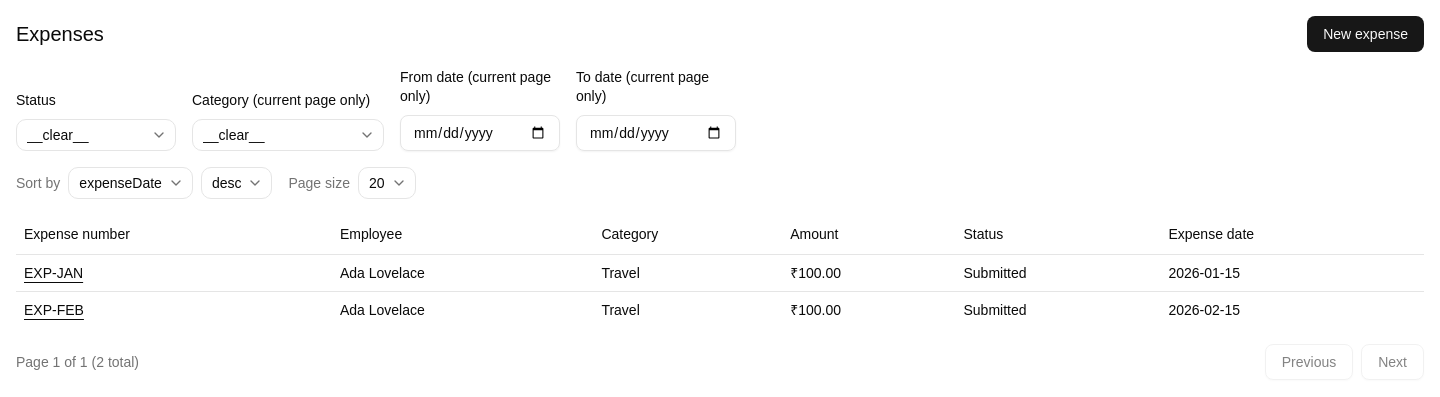
Test: ExpenseListPage › narrows to the current page when a date range filter is applied
The image size is (1440, 397).
Expected: the link "EXP-JAN" is shown, [24,265,83,281]
Type "2026-01-01" into the date field labelled "From date (current page only)" at (480, 132), box [400,114,560,150]
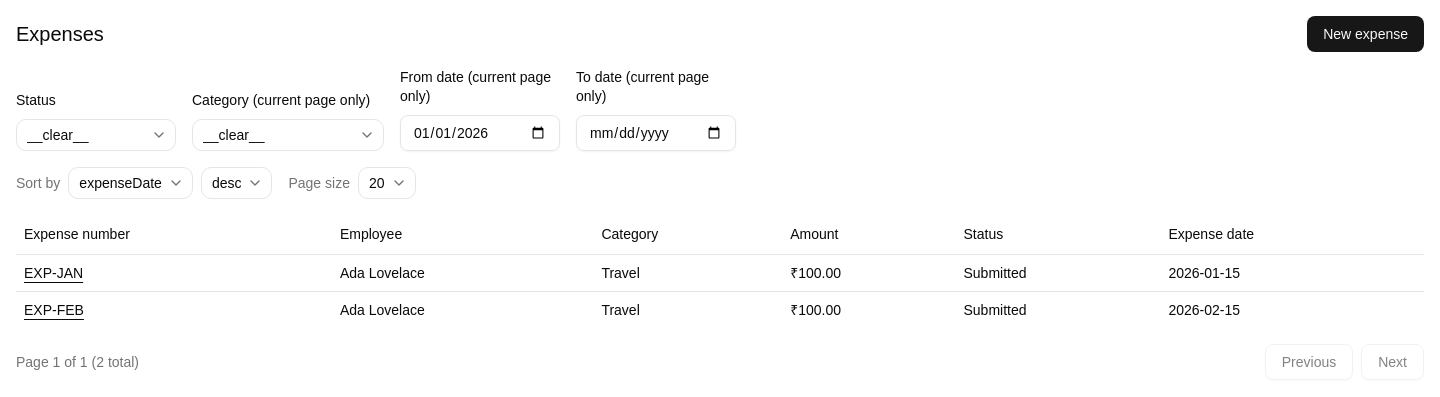
Type "2026-01-31" into the date field labelled "To date (current page only)" at (656, 132), box [576,114,736,150]
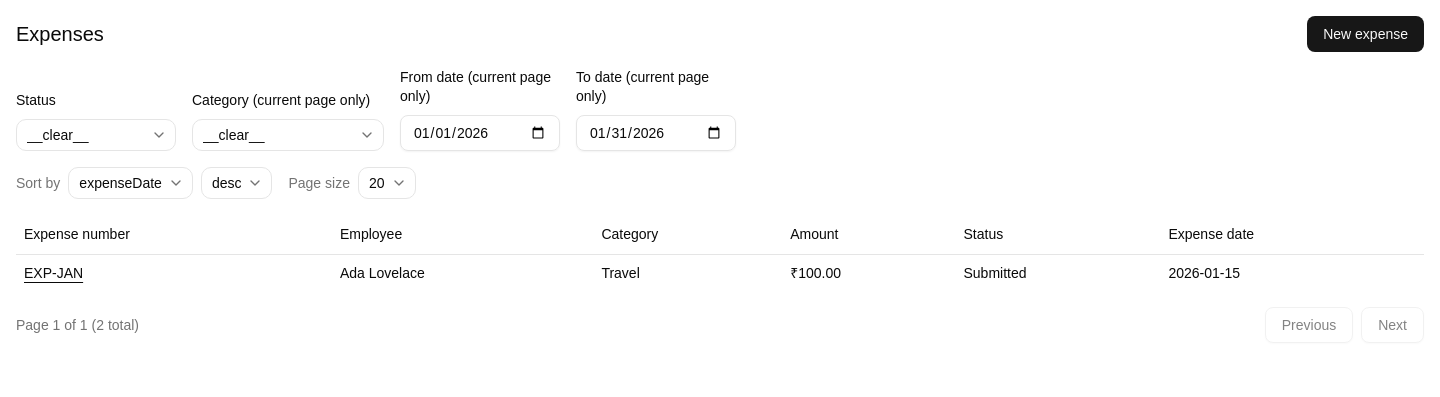
Expected: the link "EXP-JAN" is shown, [24,265,83,281]
Now the link "EXP-FEB" is gone
